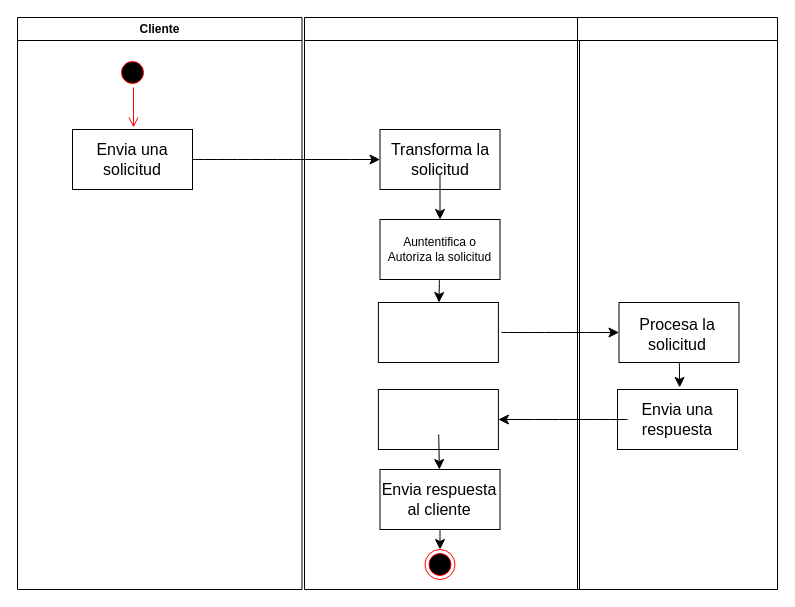
Image size: 795x607. Some labels were removed from this diagram. The box of each missing label's shape, as (x1, y1, x2, y2) in pixels:
API Gateway: (304, 16, 580, 590)
Enruta la solicitud: (377, 302, 498, 362)
Procesa la respuesta: (377, 388, 498, 450)
Service(n): (576, 16, 778, 590)
